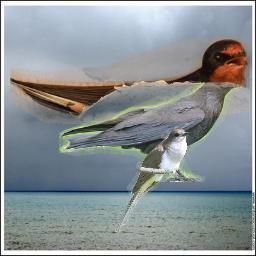Crow: (59, 72, 243, 182)
Cuckoo: (114, 128, 191, 233)
Swallow: (10, 37, 250, 124)
